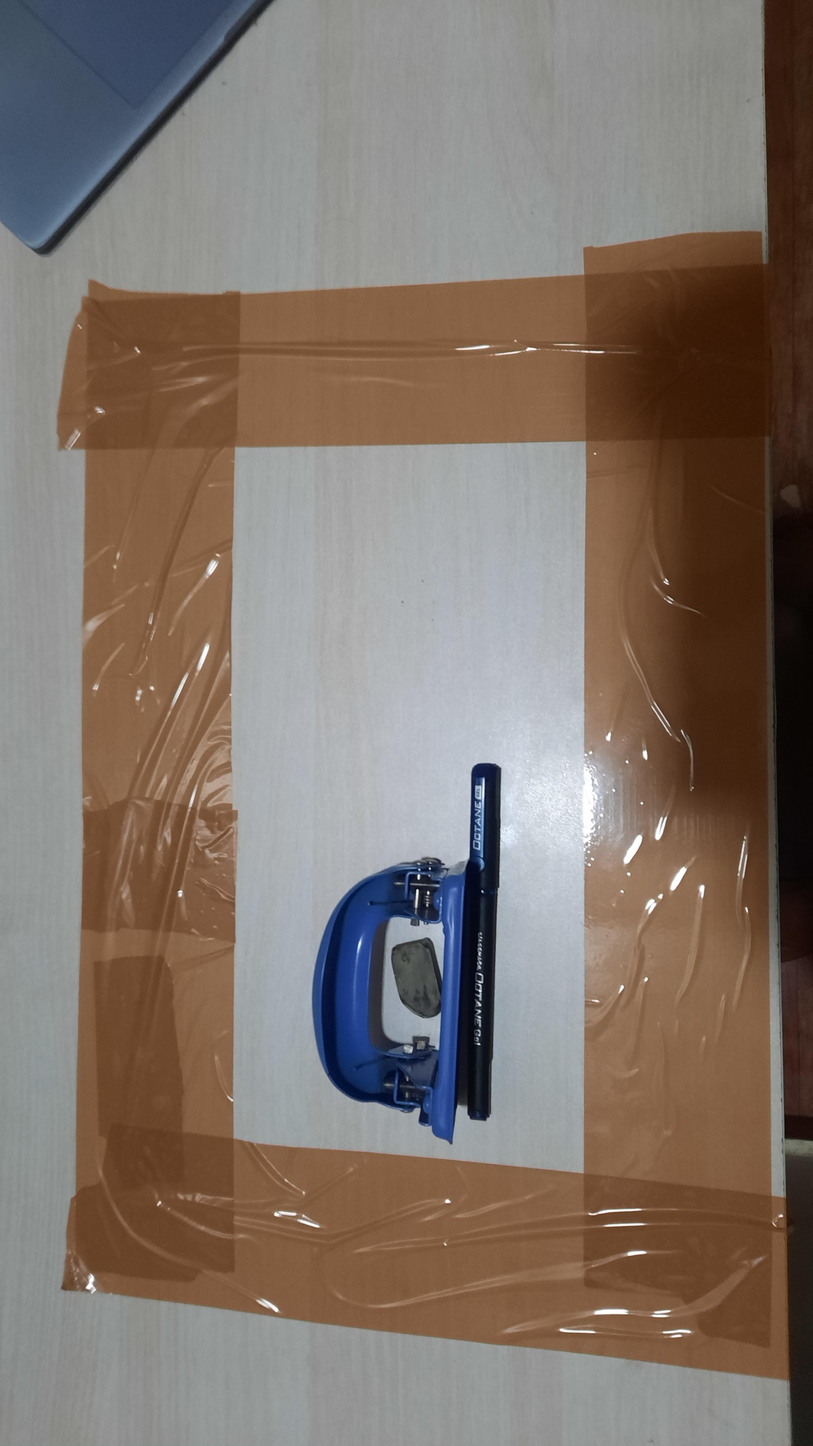Eraser: (391, 938, 443, 1019)
Pen: (465, 762, 502, 1122)
Punch: (312, 856, 469, 1144)
